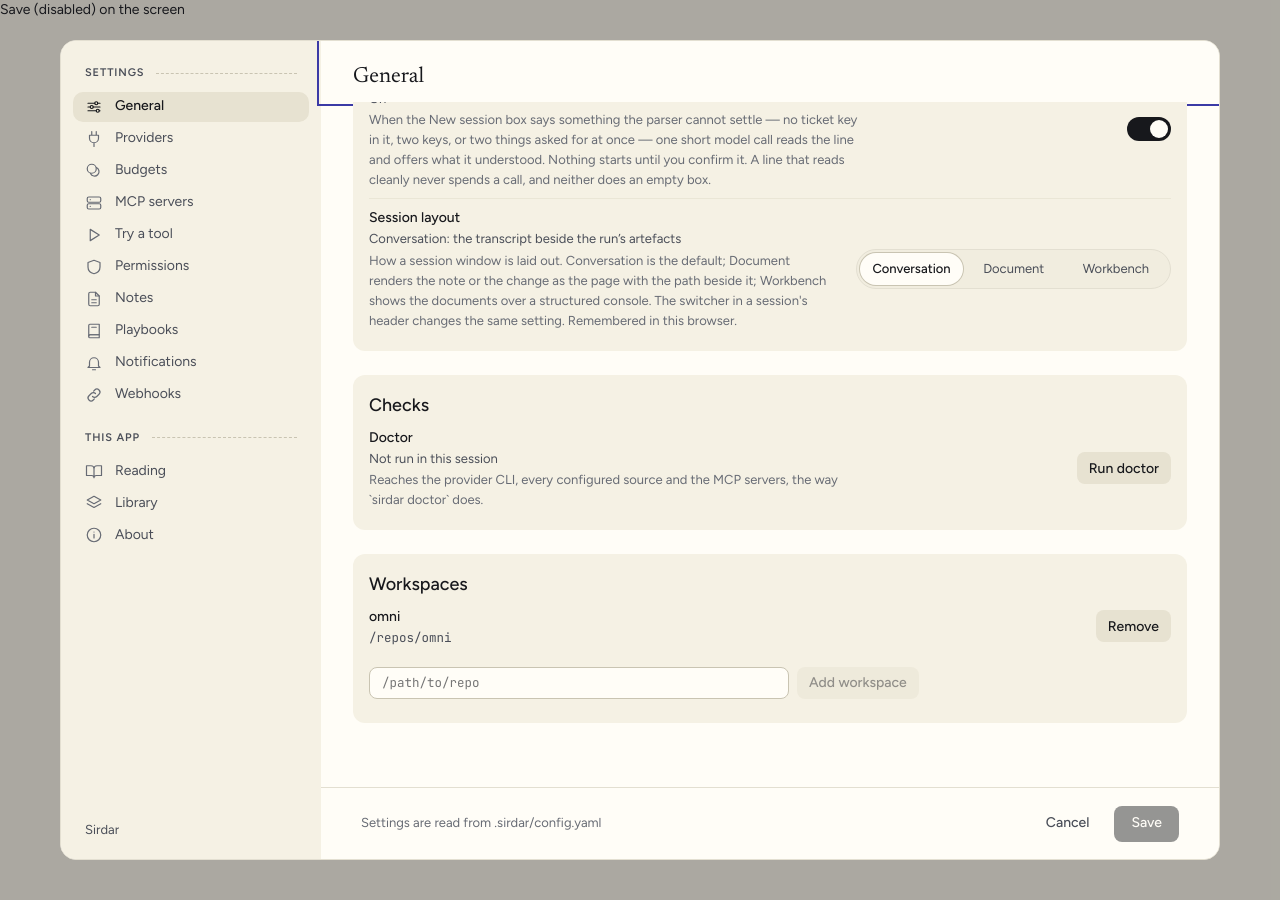
Test case: General › registers a workspace and reports the failure when it cannot
This screenshot has width=1280, height=900.
(page scrolled)
Type "/repos/sirdar" into the field named "Workspace path".
click(579, 683); type("/repos/sirdar")  # box [369,667,789,699]
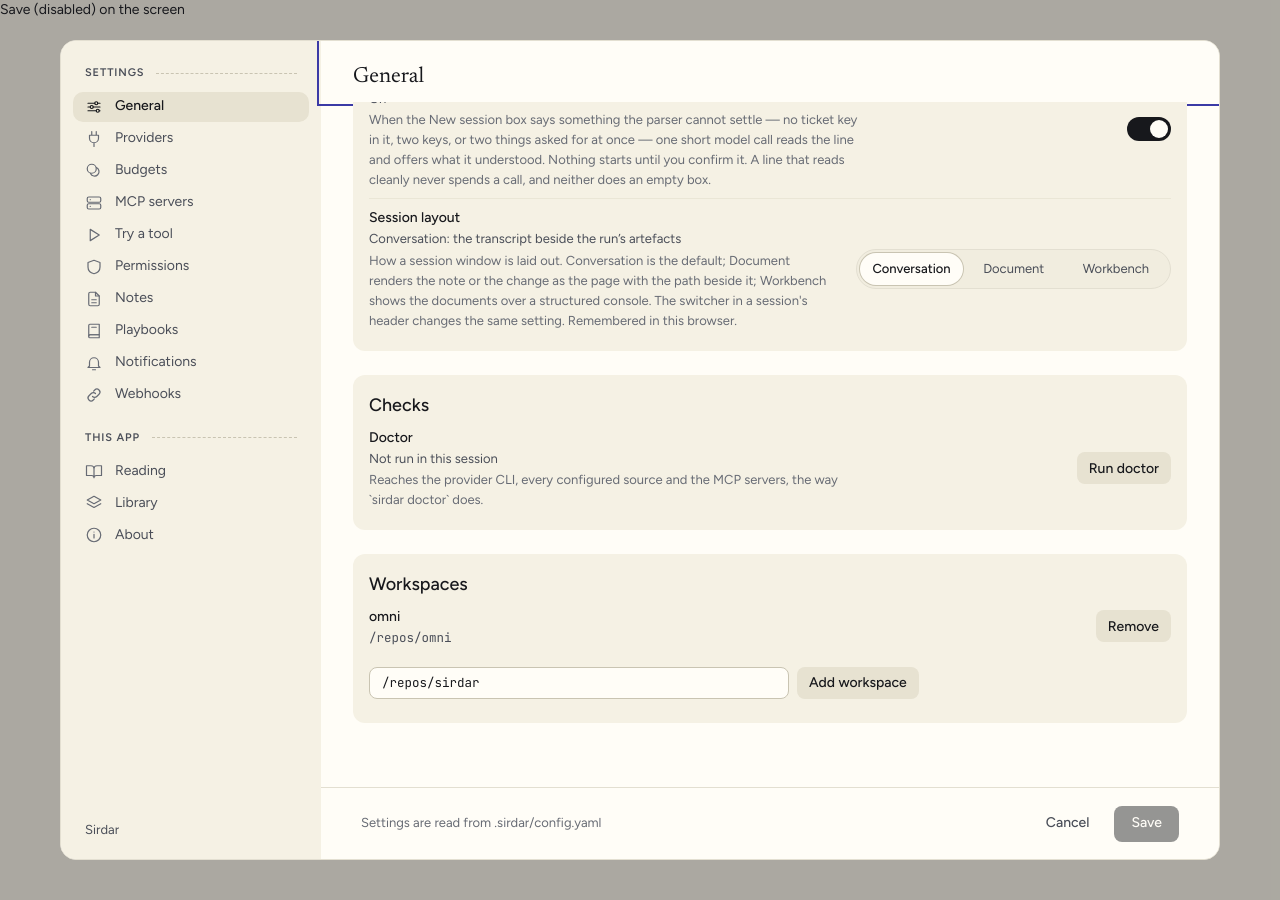
Click the button "Add workspace".
click(858, 683)  # box [797,667,919,699]
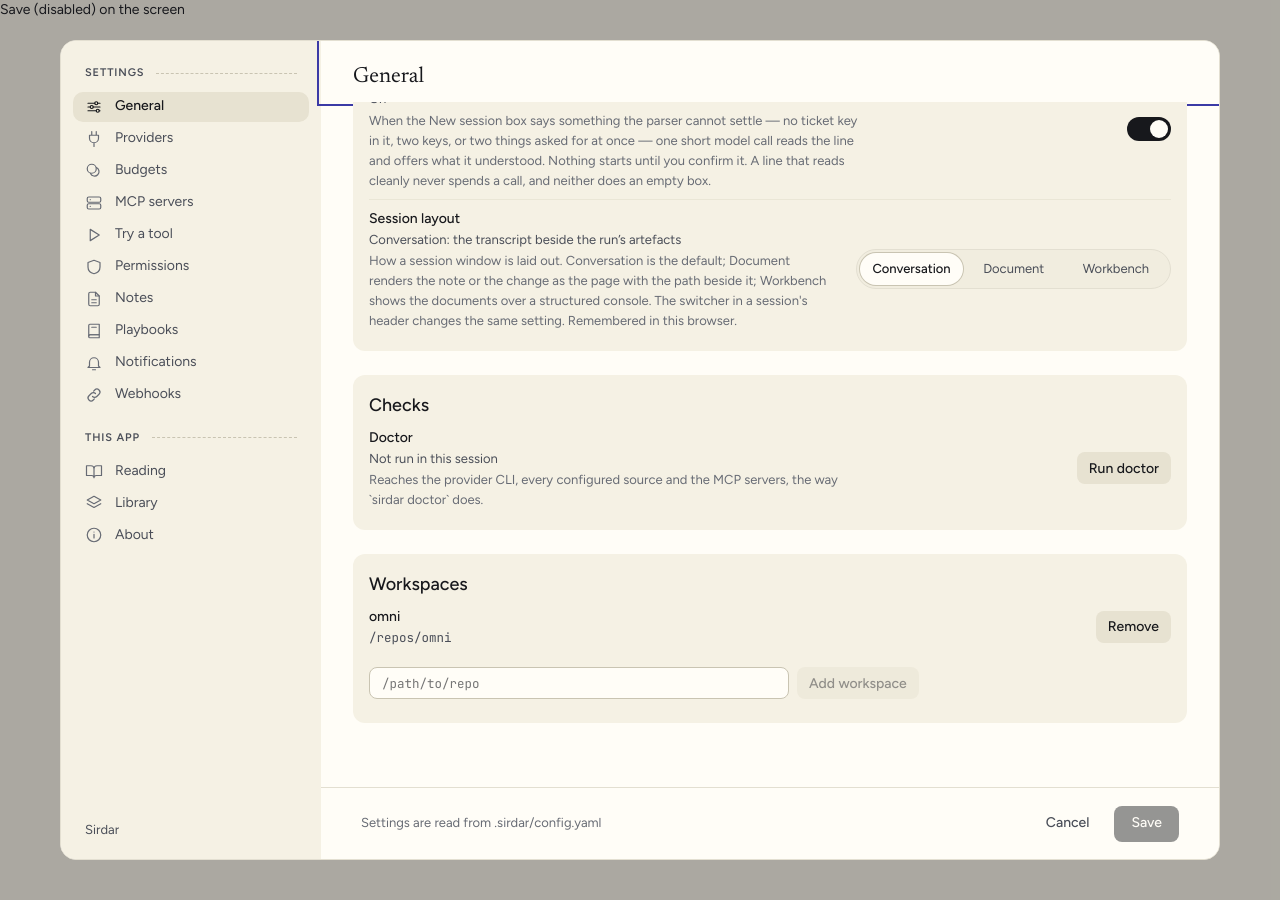
Type "/nope" into the field named "Workspace path".
click(579, 683); type("/nope")  # box [369,667,789,699]
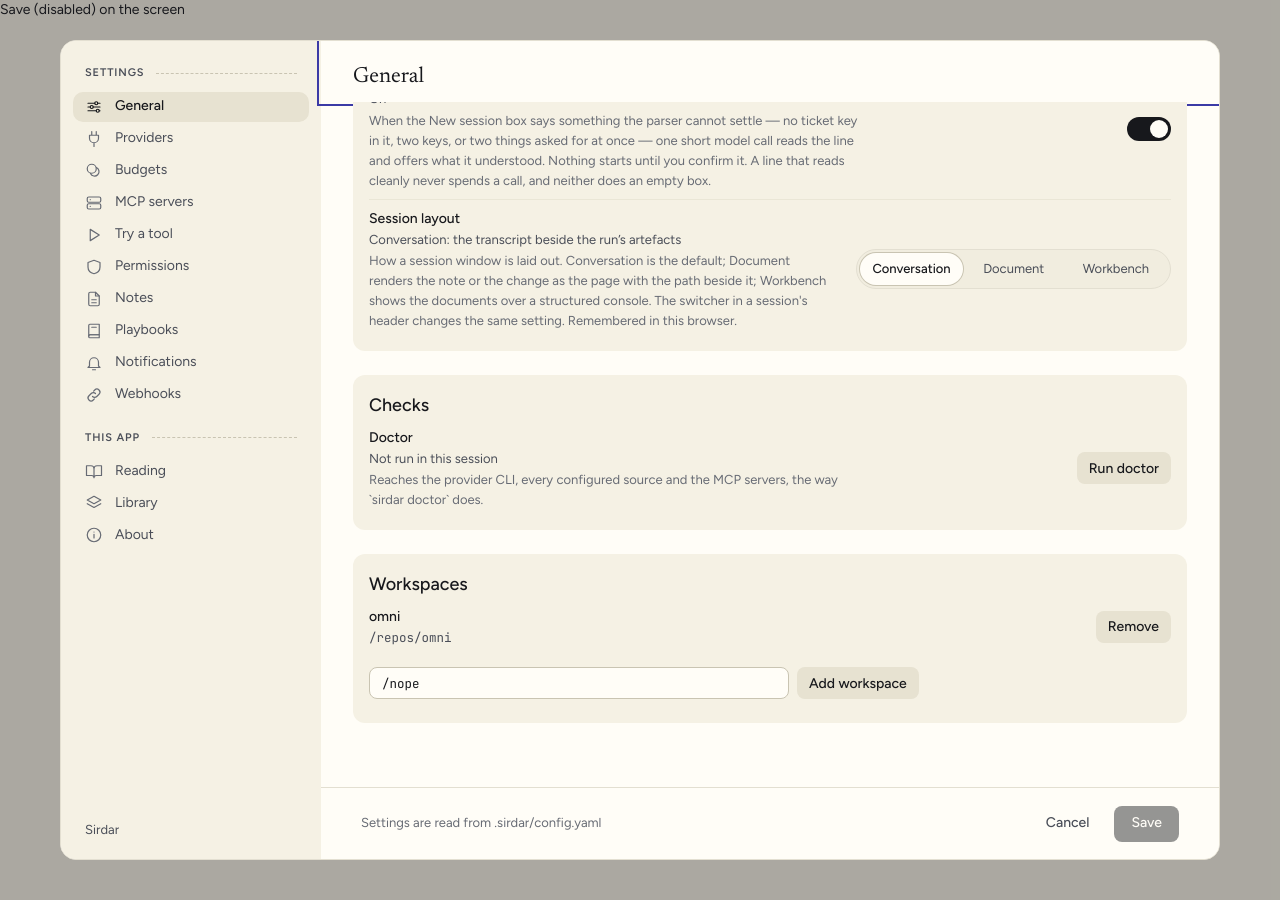
Click the button "Add workspace".
click(858, 683)  # box [797,667,919,699]
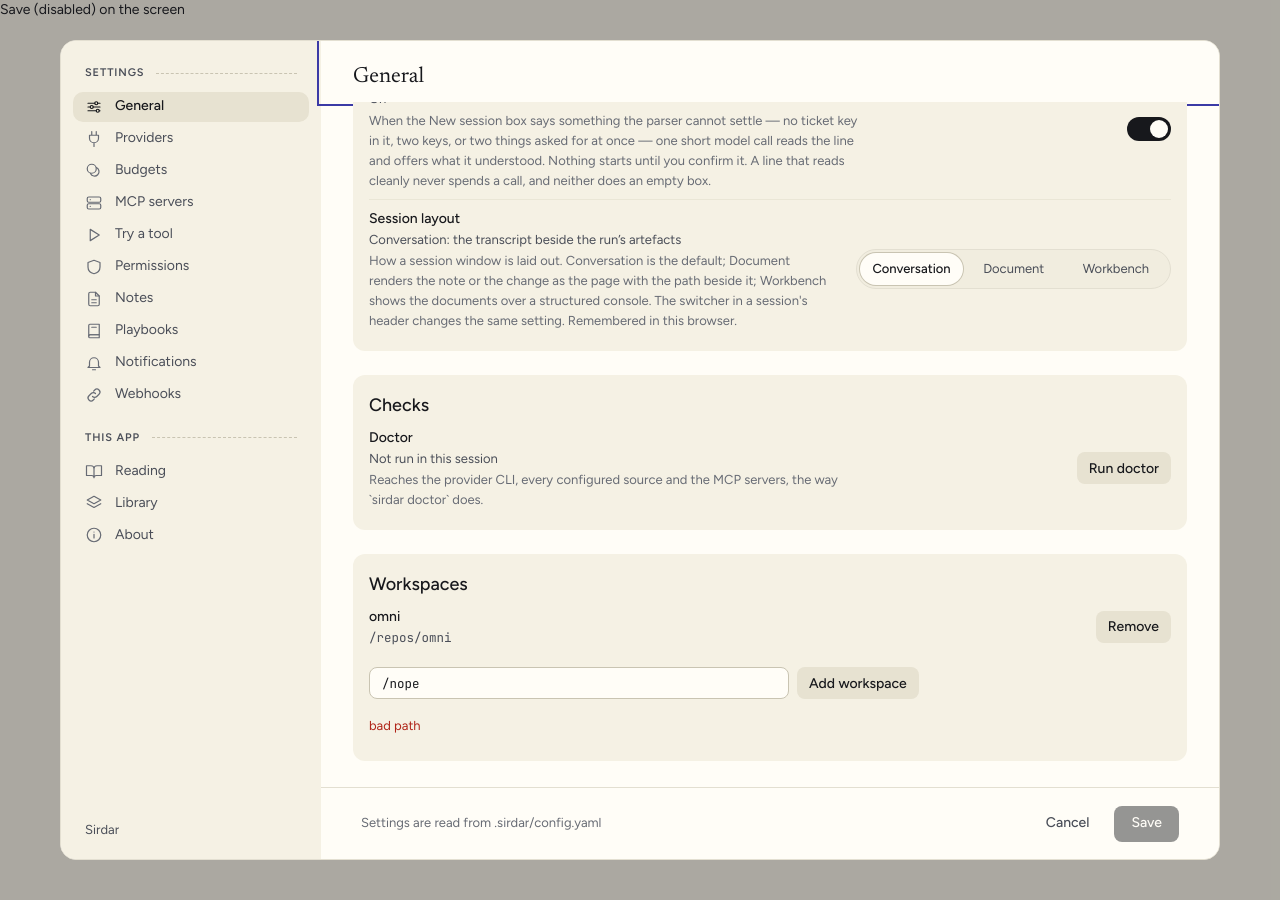
Check: the text "bad path" is shown, box [369,718,421,733]
